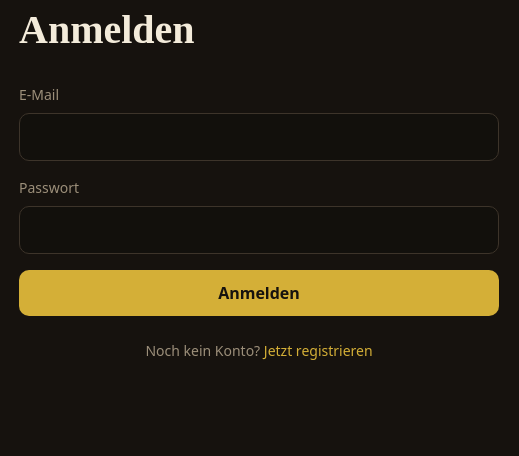
Test case: LoginPage › zeigt bei falschen Anmeldedaten eine verständliche Meldung
The image size is (519, 456).
Type "anna@example.com" into the field labelled "E-Mail". click: (259, 137)
box: [19,113,499,161]
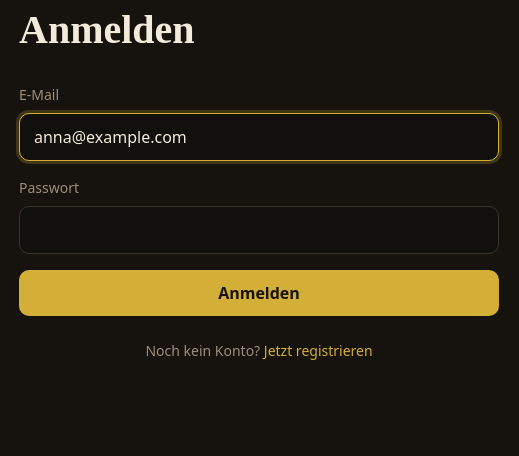
Type "falsch" into the password field labelled "Passwort". click: (259, 230)
box: [19,206,499,254]
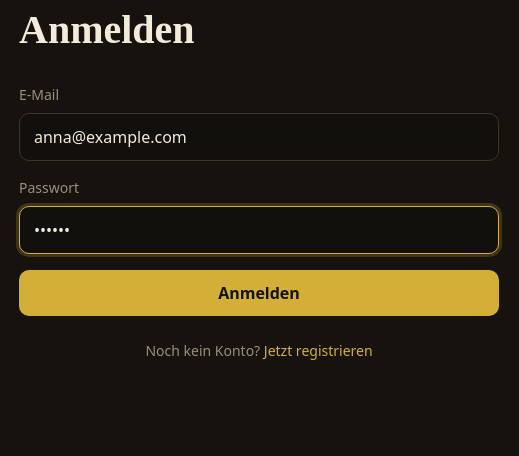
Click the button "Anmelden". click: (259, 293)
box: [19,270,499,316]
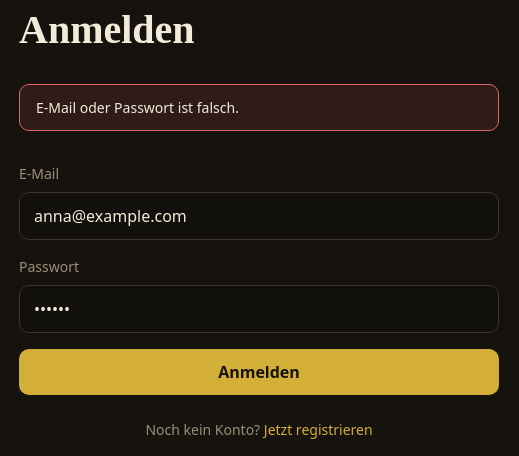
Result: the message reads "E-Mail oder Passwort ist falsch." at [36,98,239,117]
